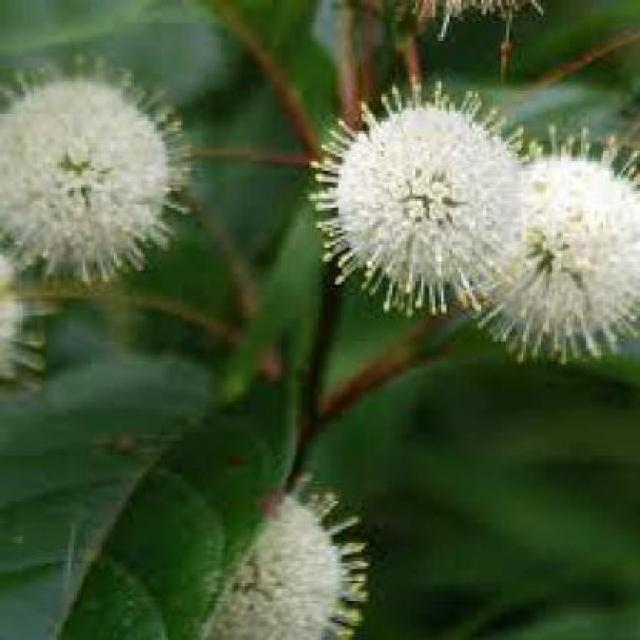flower: (432, 119, 637, 384), (302, 86, 516, 316), (9, 52, 196, 273), (159, 472, 381, 634)
